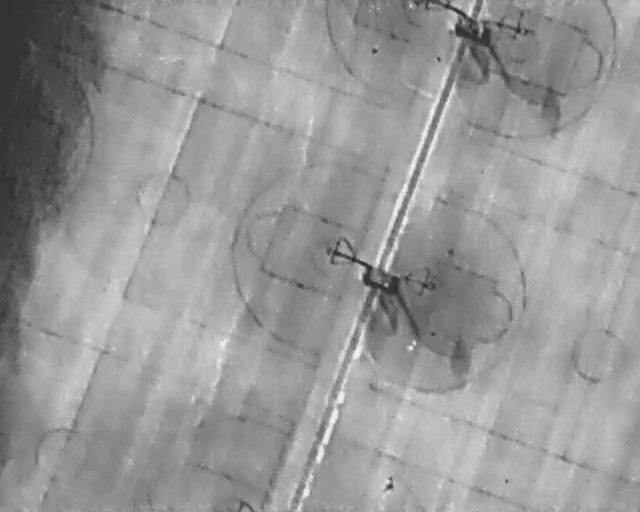Person: (385, 475, 396, 496), (407, 335, 417, 351)
